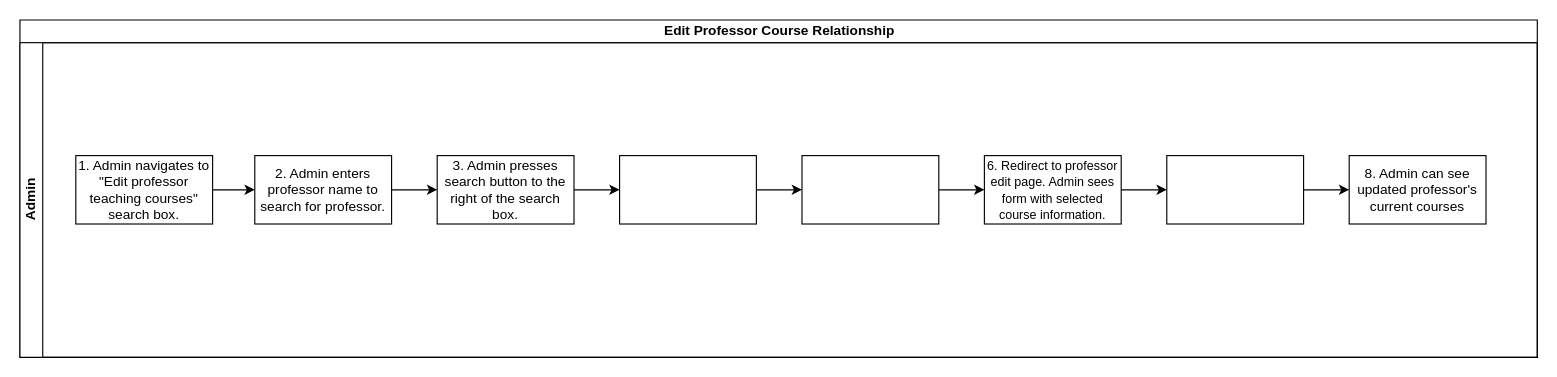
The diagram is 1557 pixels wide and 377 high, and some of its shapes have lost their labels. The shapes that lost their labels are listed below. From the top down, each one's centre as x and y in pixels, then its label:
the point at 687,189: 4. Admin sees results matching search field.
the point at 870,189: 5. Admin presses edit button in same row as professor to edit.
the point at 1235,189: 7. Admin can add new courses or remove current courses
